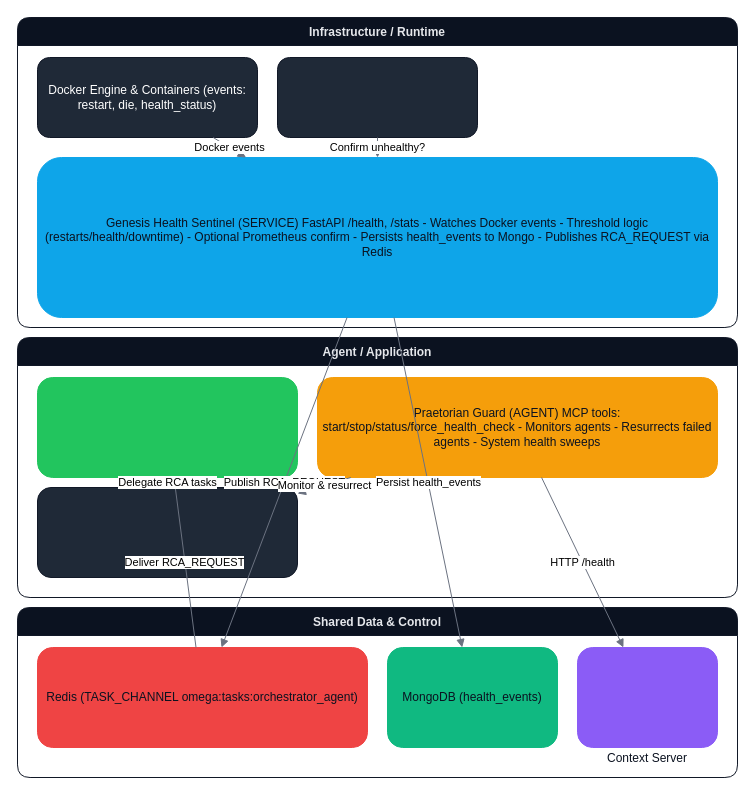
The diagram is 755 pixels wide and 795 high, and some of its shapes have lost their labels. The centre of each missing label's shape, as x and y in pixels:
"Agents Fleet (Other OMEGA Agents)" goes at (x=167, y=532).
"Federation Core" goes at (x=647, y=697).
"Orchestrator Agent (receives RCA_REQUEST, drives RCA workflow)" goes at (x=167, y=427).
"Prometheus (optional confirm)" goes at (x=377, y=97).
